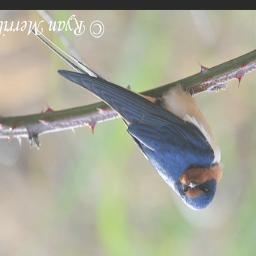Swallow: (26, 23, 224, 211)
